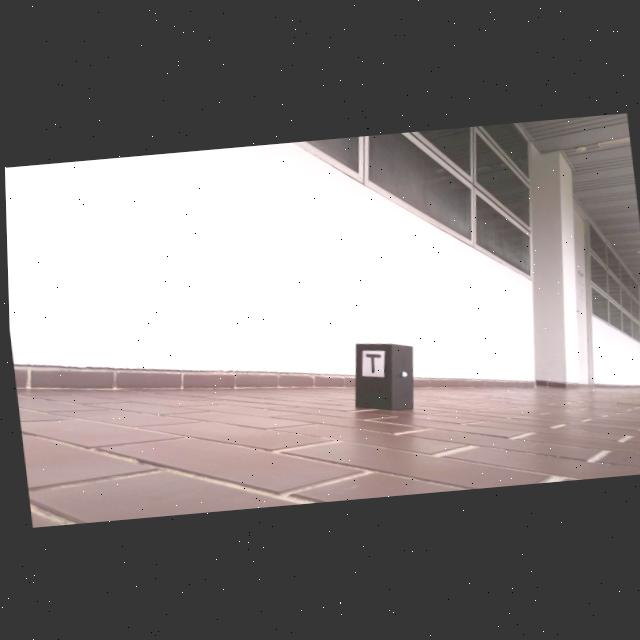T: (363, 353, 379, 374)
